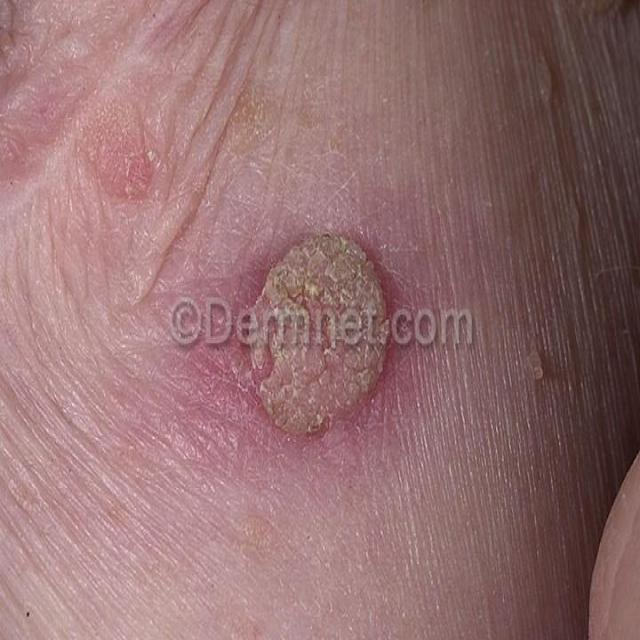Eczema: (187, 228, 403, 427)
